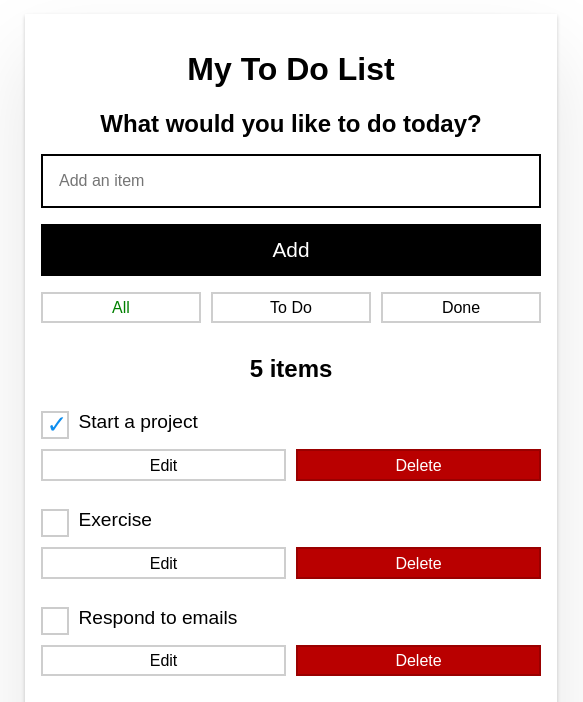
ToDo List › should filter items initially
Note: Verify that there are 5 total tasks
Click the button with class "btn-menu" showing "All": (121, 308) top-left (41, 292), bottom-right (201, 324)
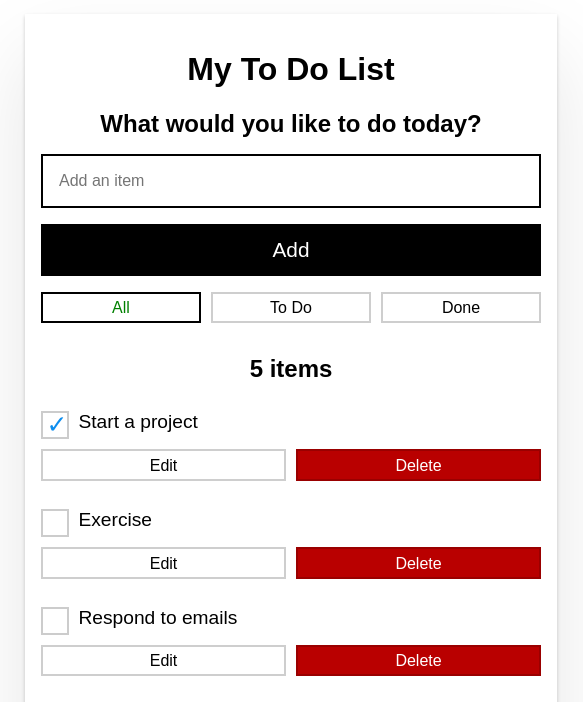
Check: the label "Start a project" is shown, box top-left (78, 411), bottom-right (198, 432)
Click the button with class "btn-menu" showing "To Do": (291, 308) top-left (211, 292), bottom-right (371, 324)
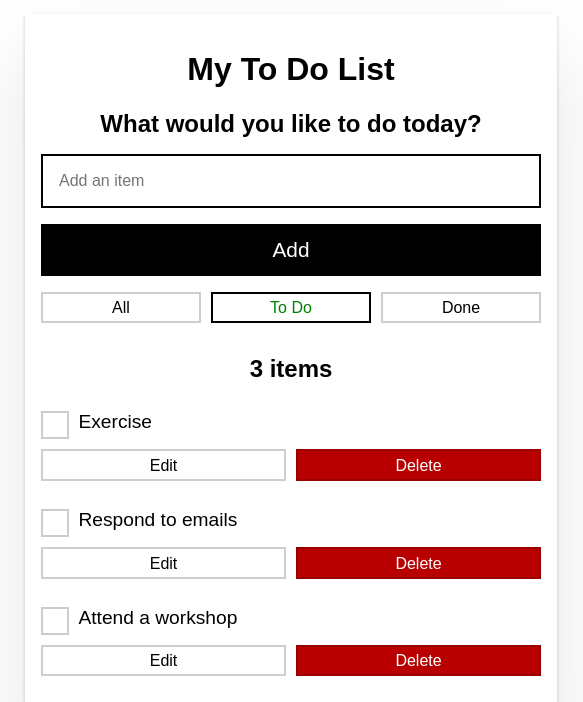
Check: the label "Exercise" is shown, box top-left (41, 411), bottom-right (152, 432)
Note: Verify that there are 2 done tasks
Click the button with class "btn-menu" showing "Done": (461, 308) top-left (381, 292), bottom-right (541, 324)
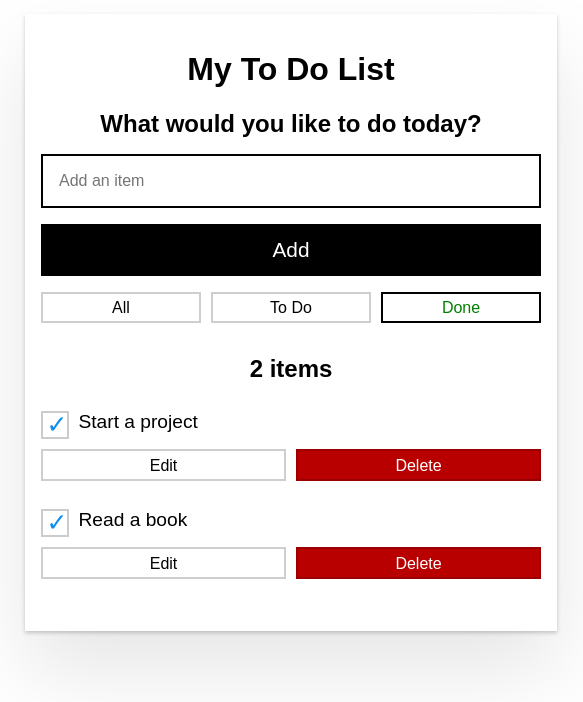
Check: the label "Start a project" is shown, box top-left (78, 411), bottom-right (198, 432)
Check: the label "Read a book" is shown, box top-left (78, 509), bottom-right (187, 530)
